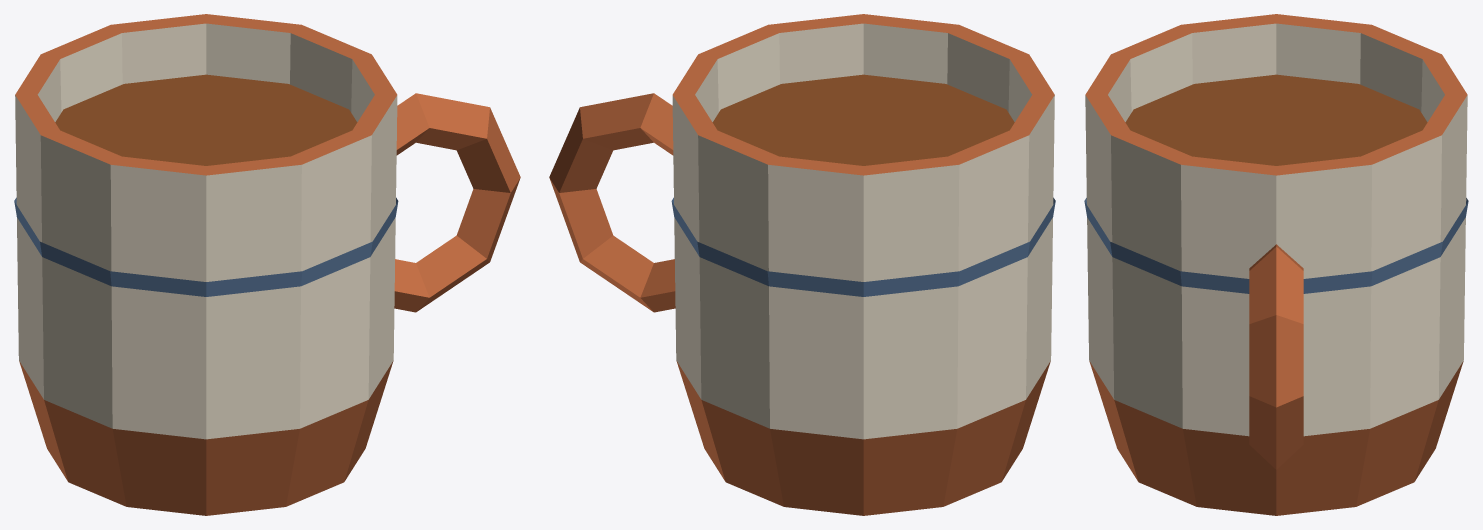
The model's file is mug.glb.
3 renders of one model, left to right at view 1: azimuth 30°, elevation 25°; view 2: azimuth 150°, elevation 25°; view 3: azimuth 270°, elevation 25°, orthographic.
Visible parts, largest first — view 1: Clay, Drink; view 2: Clay, Drink; view 3: Clay, Drink.
Part boxes in pixels (x1=…): Clay: x1=14, y1=14, x2=520, y2=515; Drink: x1=55, y1=74, x2=357, y2=165; Clay: x1=549, y1=14, x2=1055, y2=515; Drink: x1=712, y1=74, x2=1014, y2=165; Clay: x1=1084, y1=14, x2=1468, y2=515; Drink: x1=1125, y1=74, x2=1427, y2=165.
Bounding box in the file's own units: 0.711 × 0.5 × 0.492.
2 materials, 2 textured.
